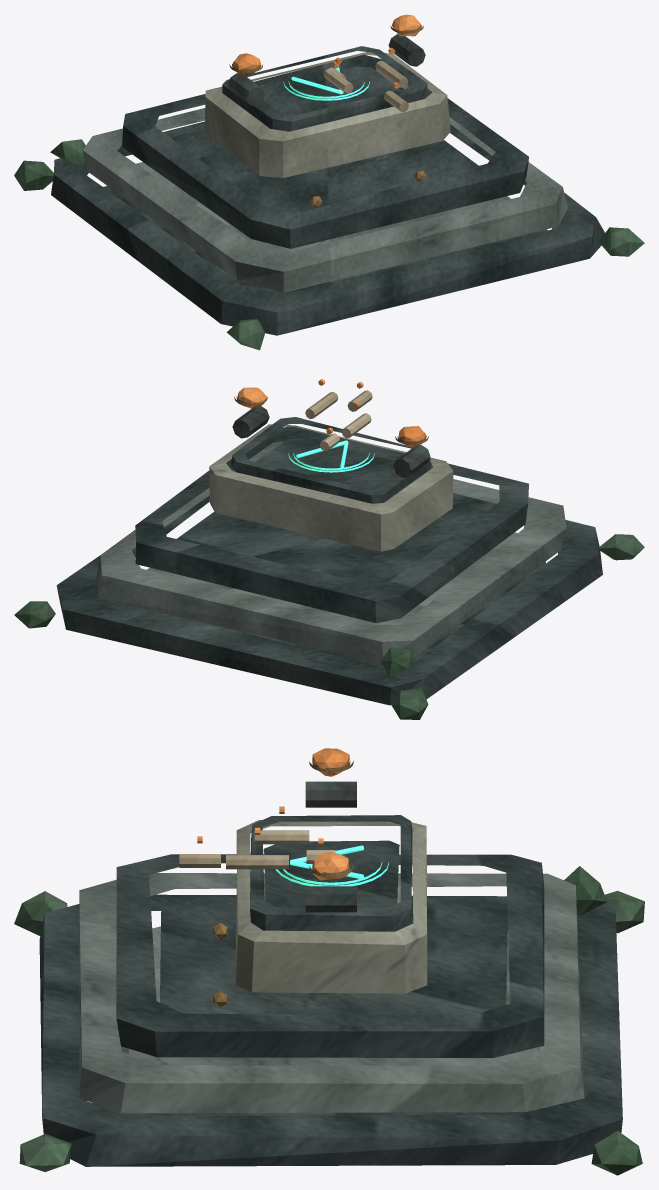
File: 0451_altar_01.glb
3 views of the same model, one above another, from view 1: azimuth 30°, elevation 25°; view 2: azimuth 150°, elevation 25°; view 3: azimuth 270°, elevation 25° (orthographic). The views are drawn at different scales.
Parts seen in each view (by area): view 1: stone_dark, stone, stone_light, moss, iron, bone, amber, glow; view 2: stone_dark, stone, stone_light, moss, iron, bone, amber, glow; view 3: stone_dark, stone, stone_light, moss, iron, bone, amber, glow, brass.
Part boxes in pixels (box(x1,y1,x2,y2)): stone_dark: box(51, 46, 604, 335); stone: box(82, 69, 567, 292); stone_light: box(205, 52, 450, 177); moss: box(14, 139, 644, 350); iron: box(228, 34, 425, 105); bone: box(323, 60, 408, 111); amber: box(232, 14, 421, 88); glow: box(283, 67, 369, 100); stone_dark: box(56, 417, 602, 705); stone: box(96, 441, 566, 662); stone_light: box(209, 424, 453, 551); moss: box(14, 534, 644, 719); iron: box(232, 406, 430, 477); bone: box(305, 390, 372, 451); amber: box(237, 379, 426, 447); glow: box(288, 440, 374, 472); stone_dark: box(39, 815, 622, 1166); stone: box(79, 873, 584, 1113); stone_light: box(235, 820, 427, 993); moss: box(14, 866, 644, 1175); iron: box(305, 781, 356, 912); bone: box(179, 830, 335, 869); amber: box(197, 748, 349, 880); glow: box(275, 845, 388, 886); brass: box(213, 760, 353, 1007).
Bounding box in the file's own units: 2.92 × 1.29 × 2.95.
Materials: 9 (9 with a texture image).
